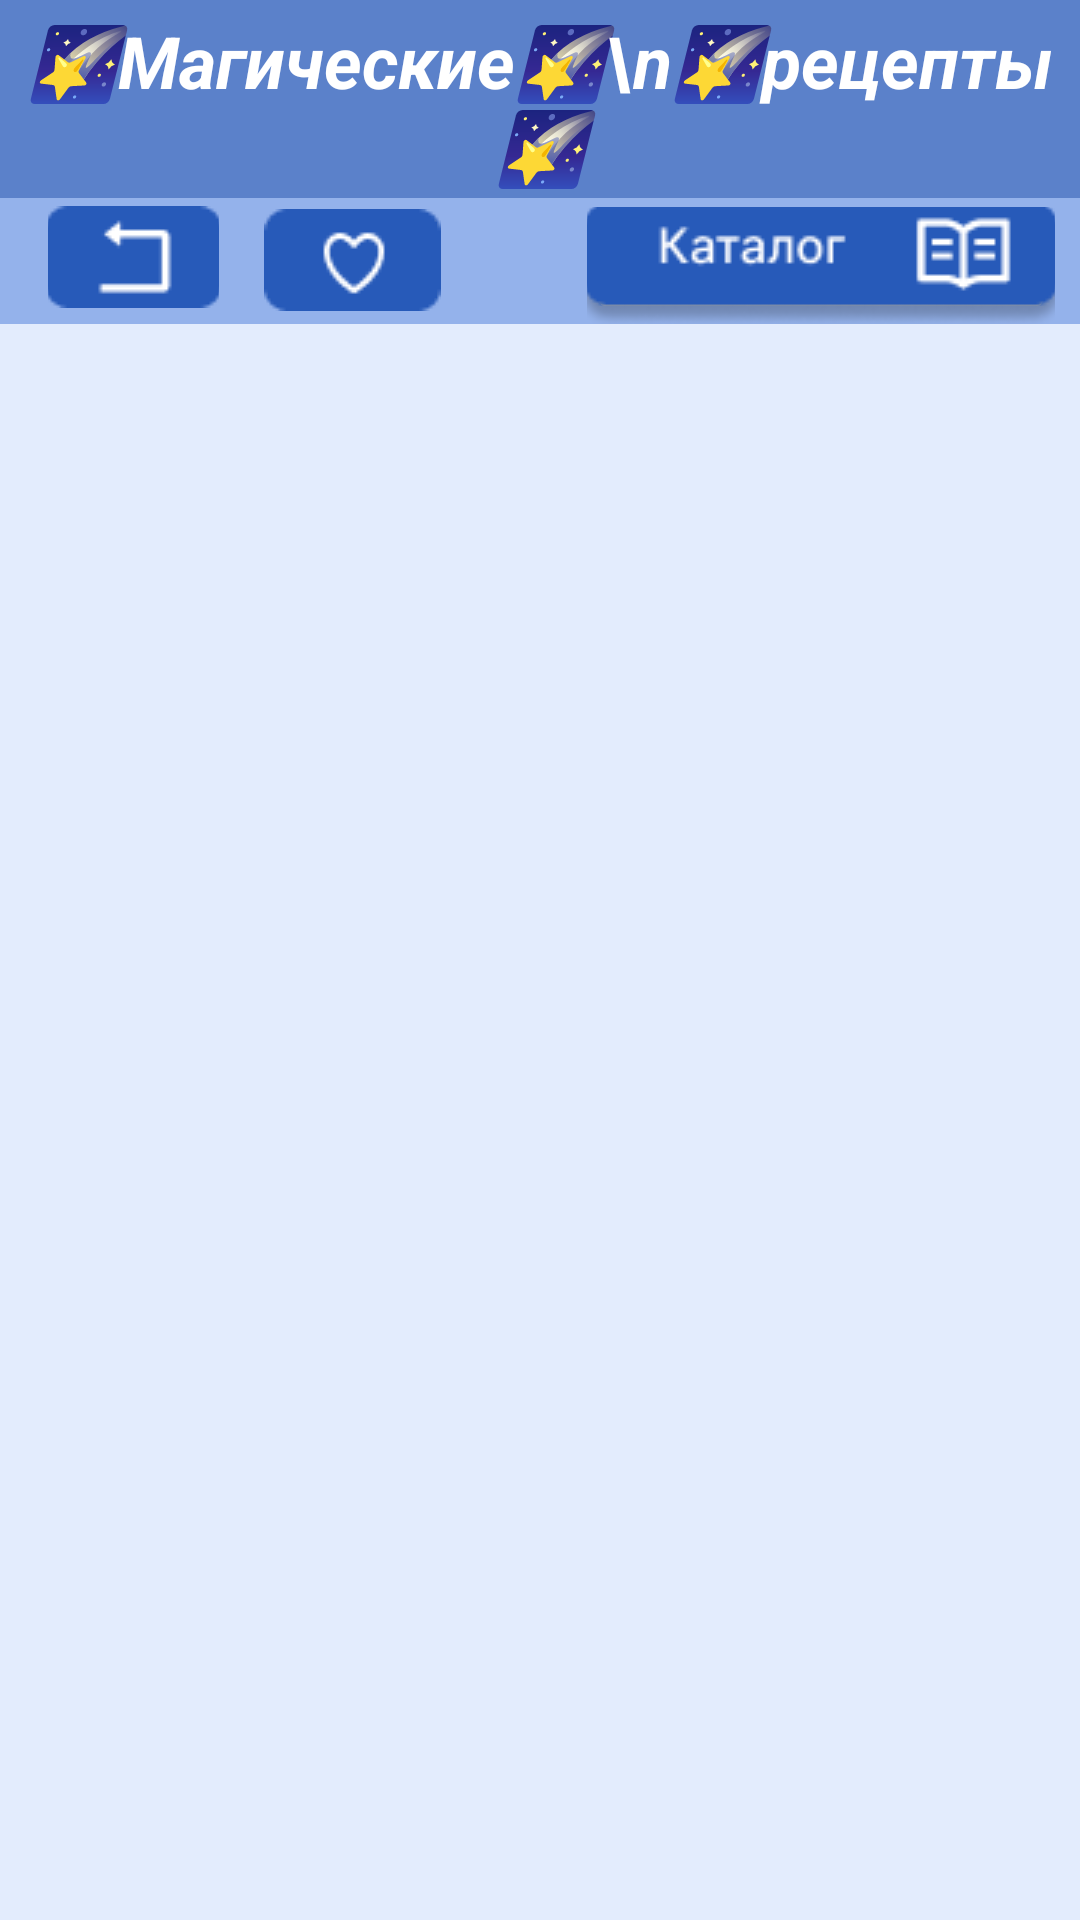

Named icons in this screenshot (1080x1920) and their centers, point (x, y):
exitaccount: point (133, 257)
favouritebutton: point (352, 260)
